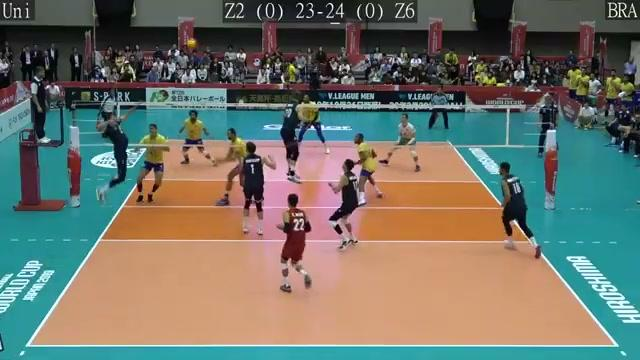ball: (185, 37, 196, 50)
